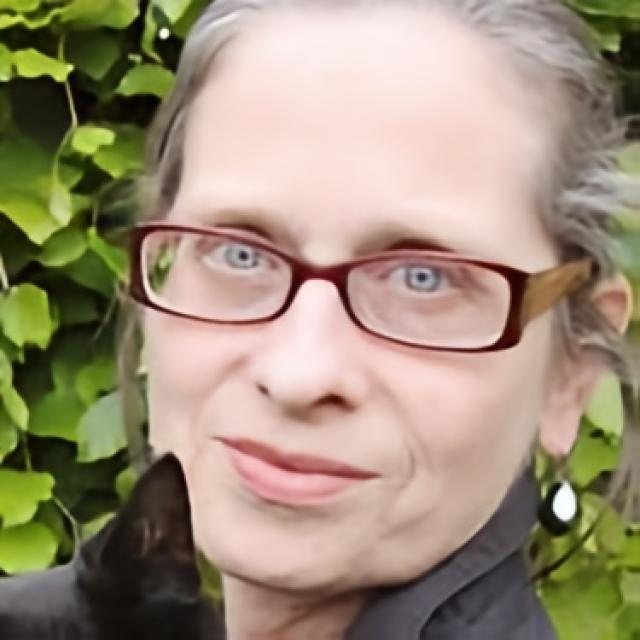content: (142, 0, 588, 593)
